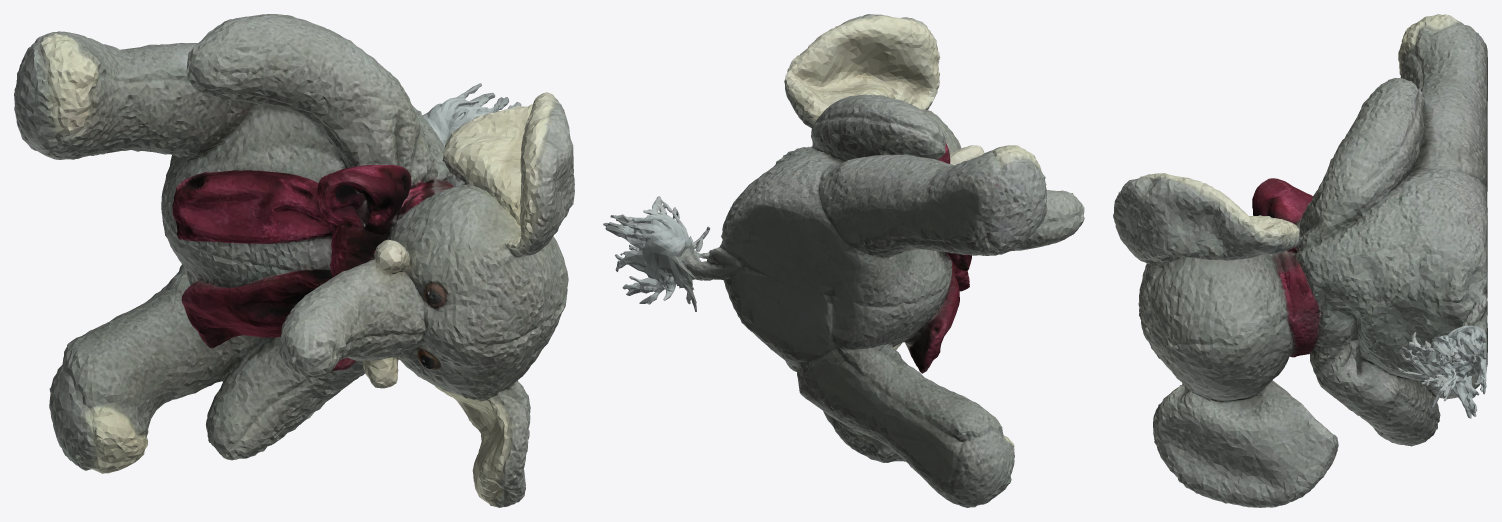
The model's file is elephant.glb.
The picture shows the model from 3 angles, left to right: view 1: azimuth 30°, elevation 25°; view 2: azimuth 150°, elevation 25°; view 3: azimuth 270°, elevation 25°; orthographic projection. The views are drawn at different scales.
Visible parts, largest first — view 1: geometry_0; view 2: geometry_0; view 3: geometry_0.
Part boxes in pixels (bbox=[...]): geometry_0: bbox=[14, 14, 574, 507]; geometry_0: bbox=[603, 14, 1084, 507]; geometry_0: bbox=[1113, 14, 1487, 507].
Bounding box in the file's own units: 1 × 0.8236 × 0.7743.
Materials: 1 (1 with a texture image).
